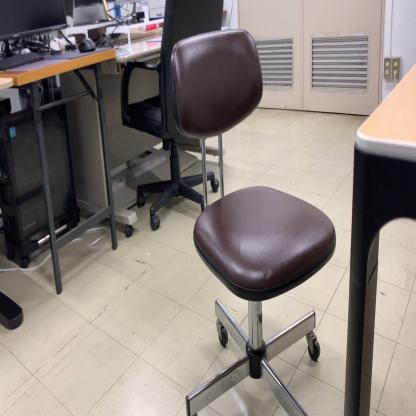chair: (169, 25, 337, 416), (118, 0, 225, 233)
